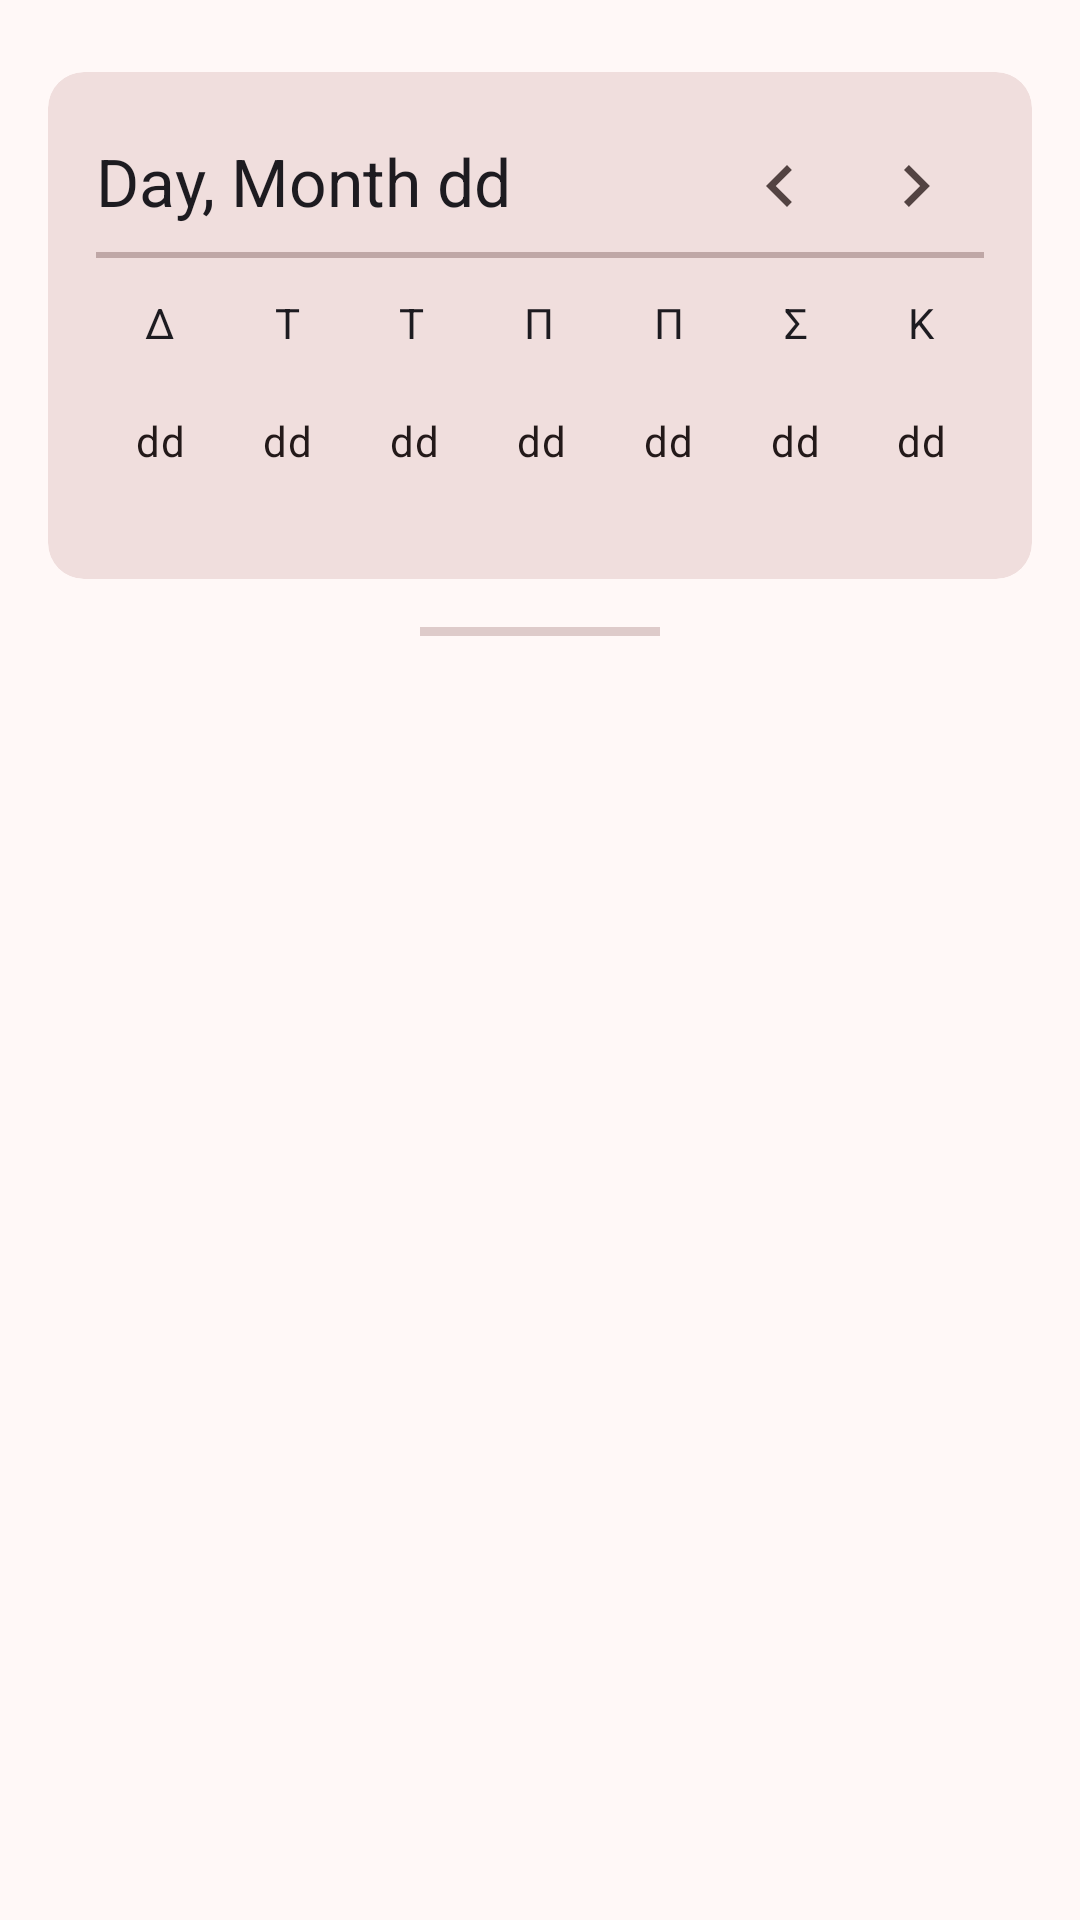

Icon click points for this 1080×1920 phone screenshot, format point (x, y):
Επόμενο: point (917, 186)
Προηγούμενο: point (779, 186)
